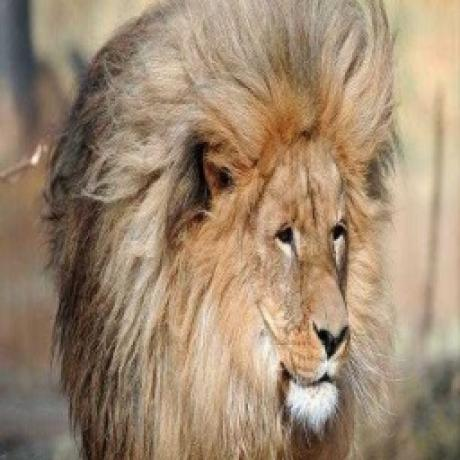Lion: (38, 0, 405, 460)
